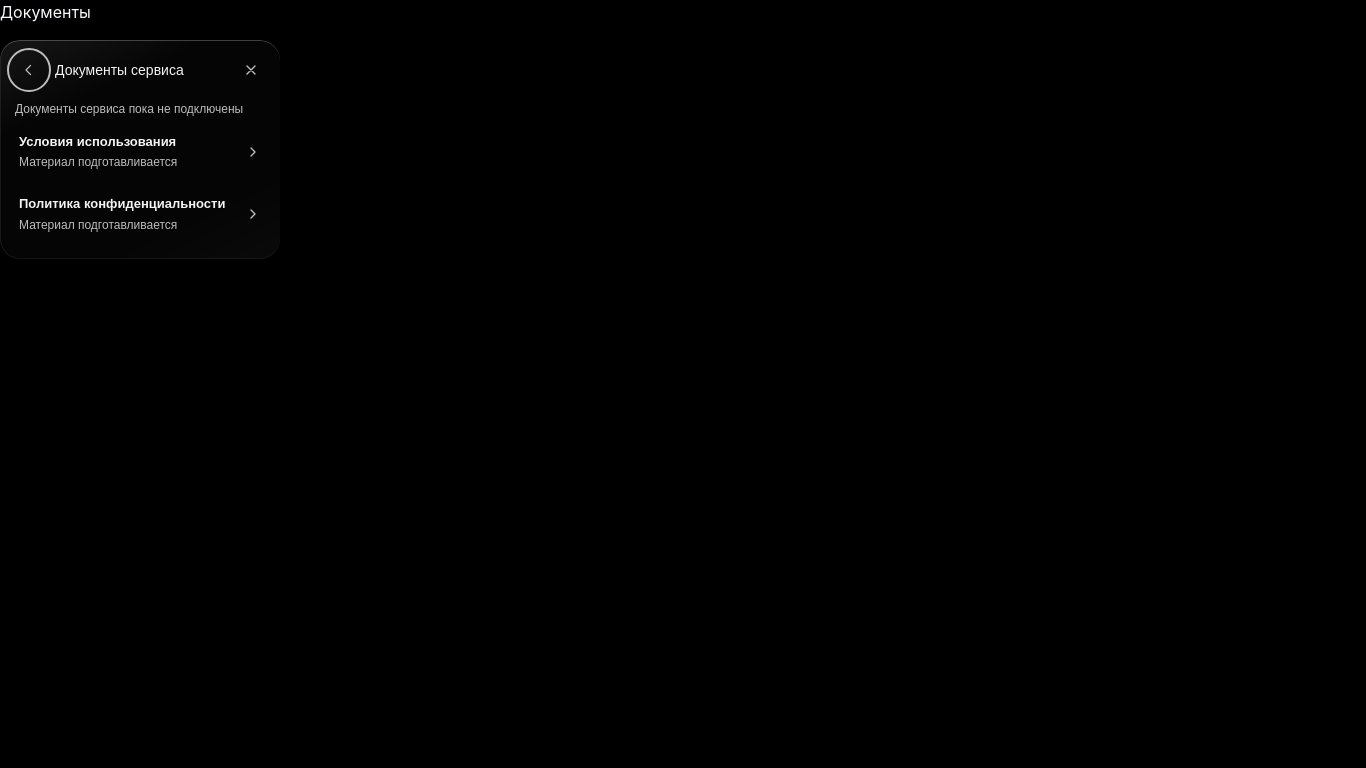
Test case: returns from a nested document on the first Escape and closes the direct Menu detail on the next
Click the button "Условия использования" at x=140, y=152, box [15,123,265,180]
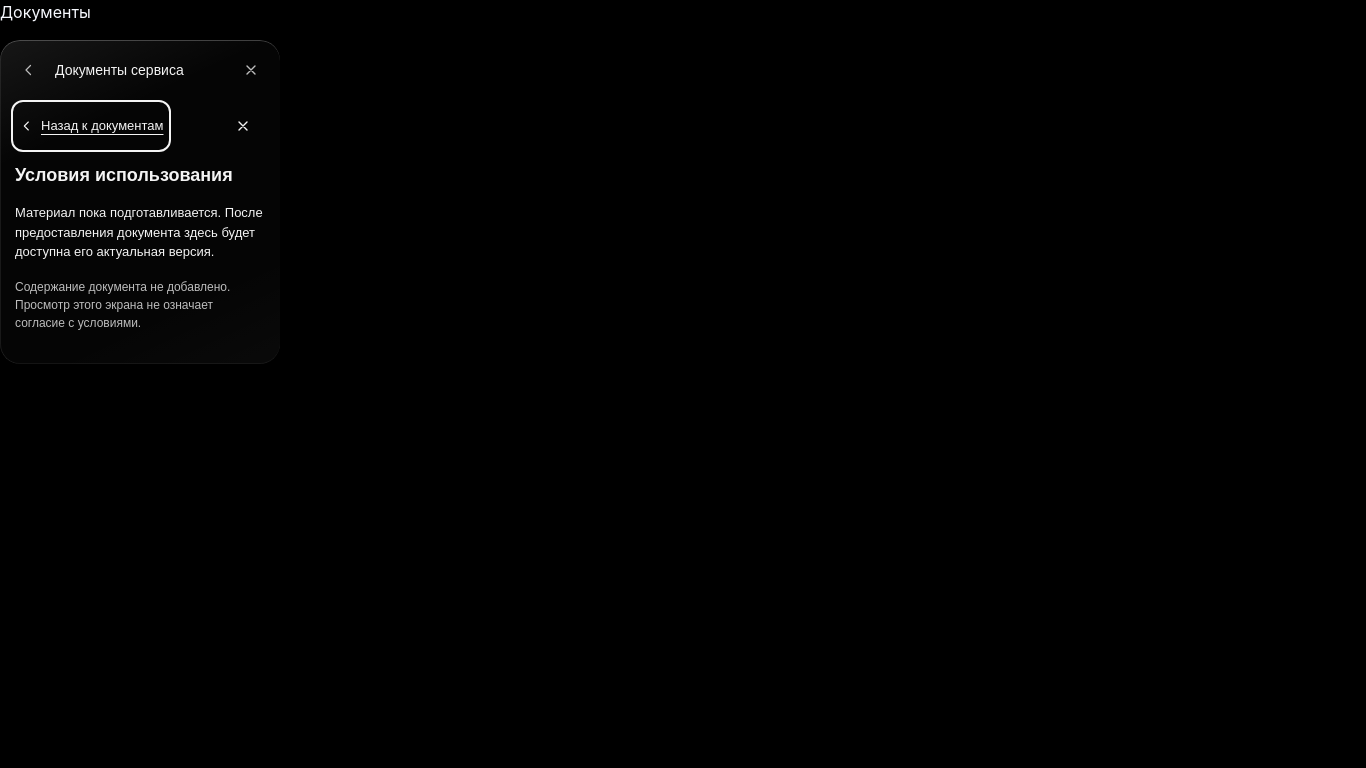
Press Escape in the button "Назад к документам", box [15,104,168,148]
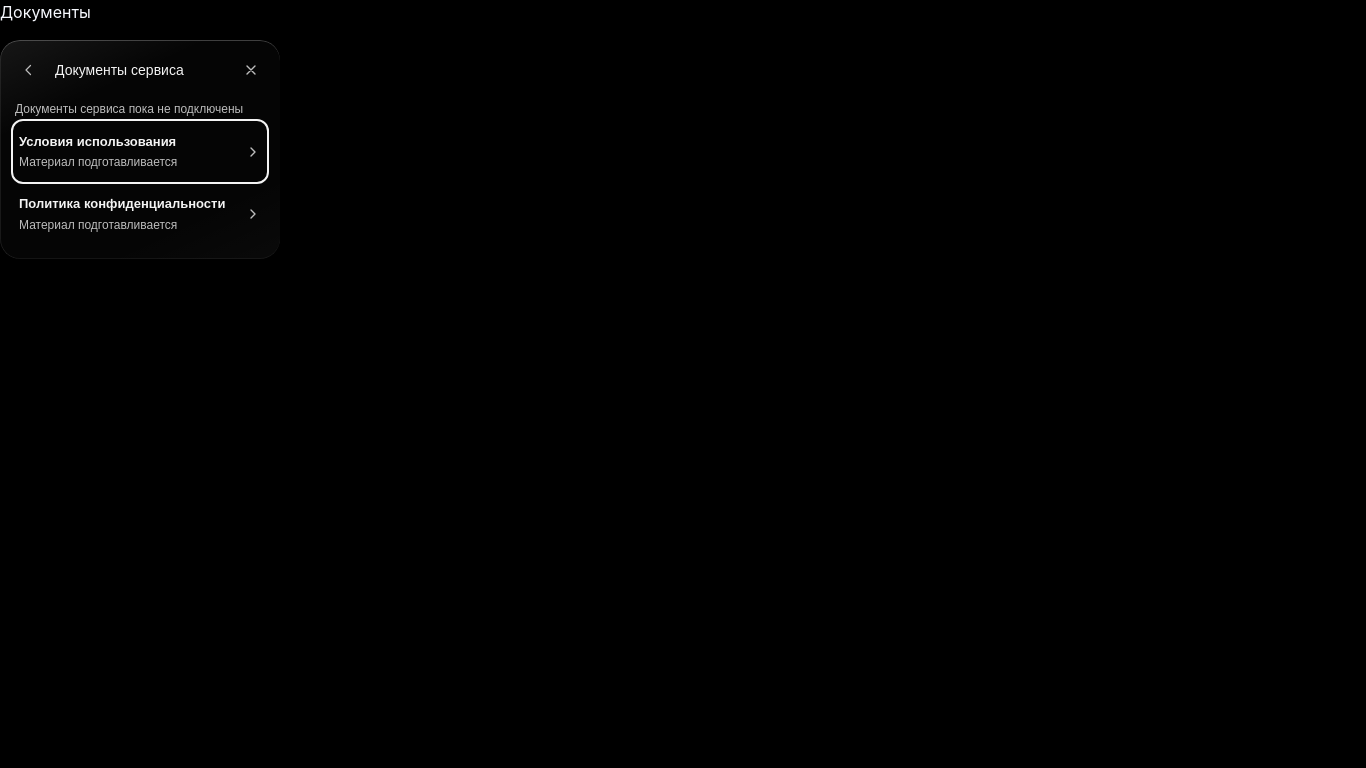
Expected: the dialog "Документы сервиса" is shown, [0,40,280,259]
Press Escape in the button "Условия использования", box [15,123,265,180]
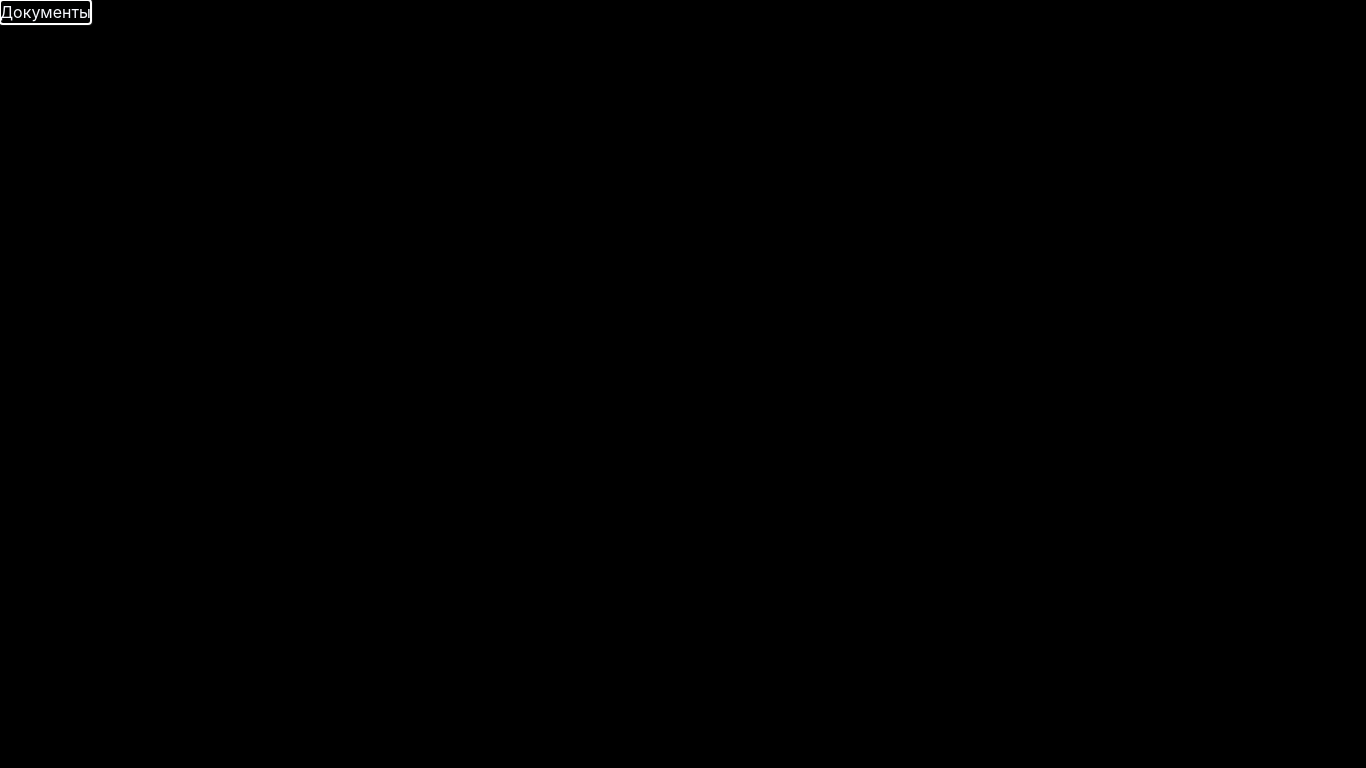
Now the dialog is gone
